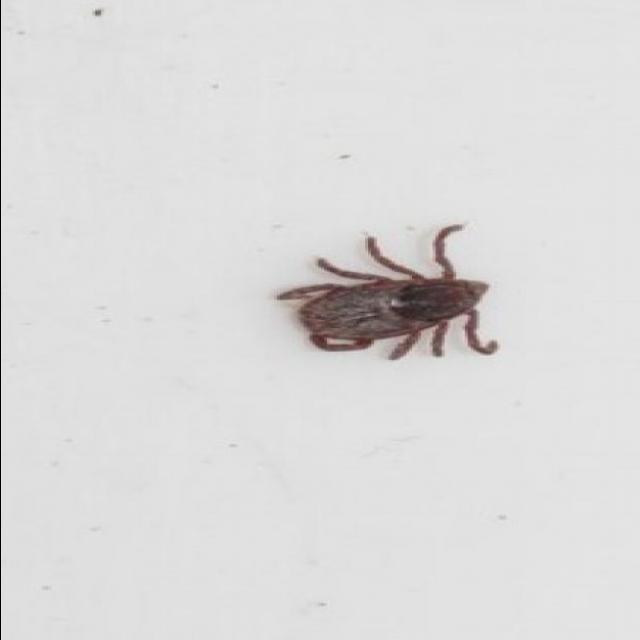Rhipicephalus Sanguineus-F: (273, 224, 496, 361)
